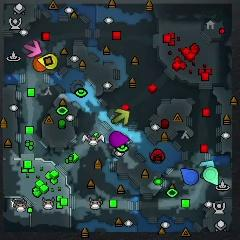p1: (181, 169, 199, 186)
p2: (204, 167, 218, 186)
p3: (110, 132, 129, 145)
p4: (38, 53, 57, 69)
p5: (33, 54, 45, 72)
x1: (25, 41, 40, 57)
x2: (113, 109, 129, 124)
x3: (200, 160, 216, 176)
